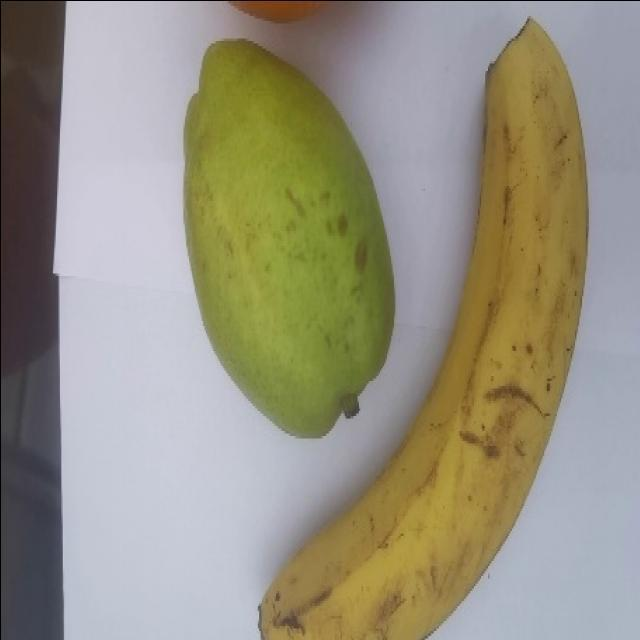Banana: (256, 15, 589, 638)
